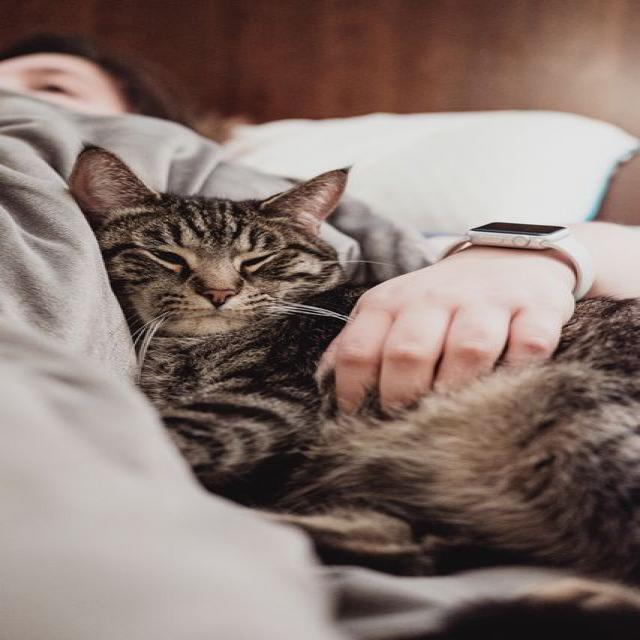cat: (91, 182, 615, 624)
hour: (456, 201, 602, 276)
